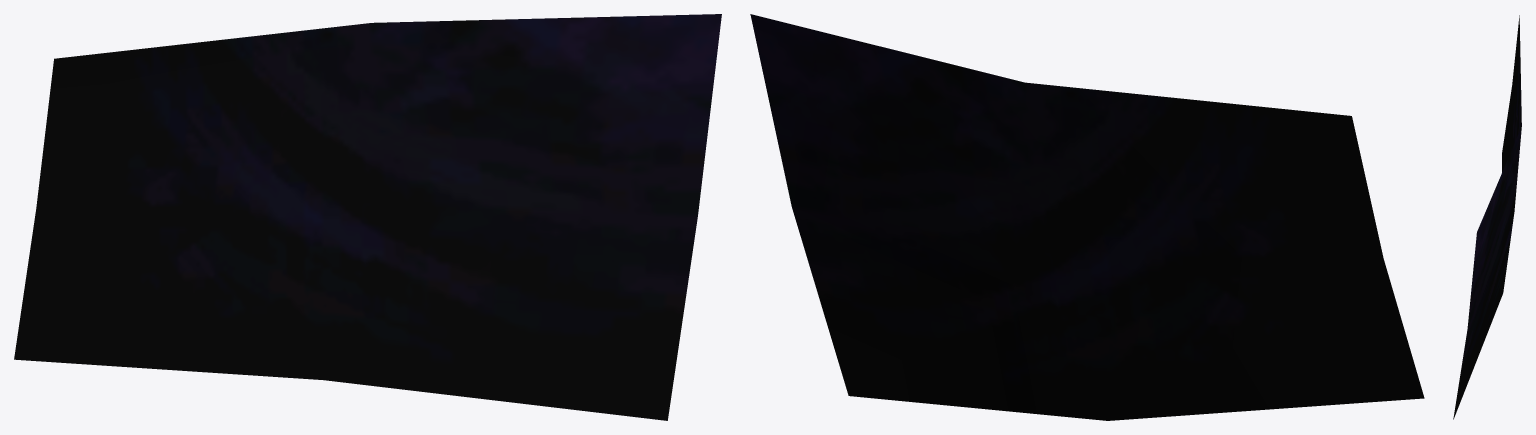
The model's file is SWORDLIGHT20_PS-AREA05-RANGE01_09.fbx.
3 views of the same model, side by side, from view 1: azimuth 30°, elevation 25°; view 2: azimuth 150°, elevation 25°; view 3: azimuth 270°, elevation 25° (orthographic). The views are drawn at different scales.
Parts seen in each view (by area): view 1: SWORDLIGHT20_PS-AREA05-RANGE01_09; view 2: SWORDLIGHT20_PS-AREA05-RANGE01_09; view 3: SWORDLIGHT20_PS-AREA05-RANGE01_09.
Boxes of the visible parts, x1,y1,x2,y2 form: SWORDLIGHT20_PS-AREA05-RANGE01_09: (14,14,721,420); SWORDLIGHT20_PS-AREA05-RANGE01_09: (750,14,1424,420); SWORDLIGHT20_PS-AREA05-RANGE01_09: (1453,15,1521,419).
Bounding box in the file's own units: 259355 × 164146 × 40136.
1 material, 1 textured.
